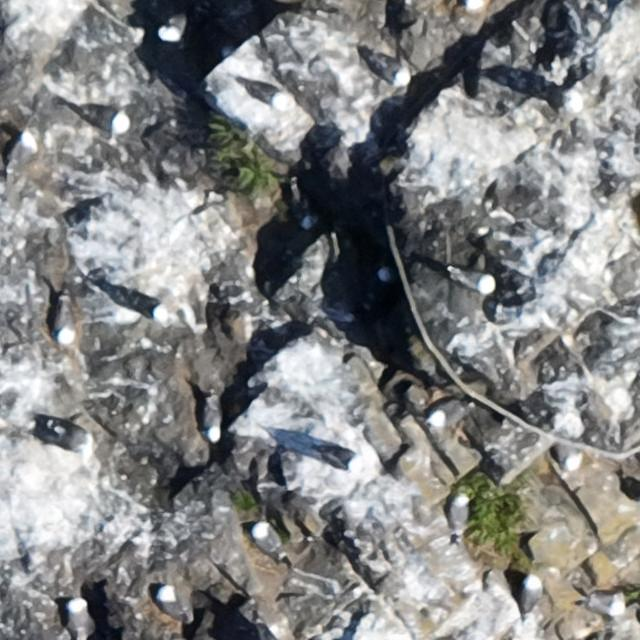umineko: (78, 102, 134, 134), (155, 10, 191, 44), (117, 291, 163, 317), (48, 426, 91, 450), (251, 525, 280, 559), (371, 57, 408, 83), (8, 135, 34, 171), (428, 401, 467, 425), (245, 83, 287, 105), (555, 443, 583, 475), (583, 592, 623, 614), (455, 270, 495, 292), (54, 302, 74, 344), (317, 447, 356, 468), (66, 599, 86, 637), (157, 585, 180, 618), (448, 495, 468, 532), (203, 400, 221, 440), (521, 577, 540, 611)
